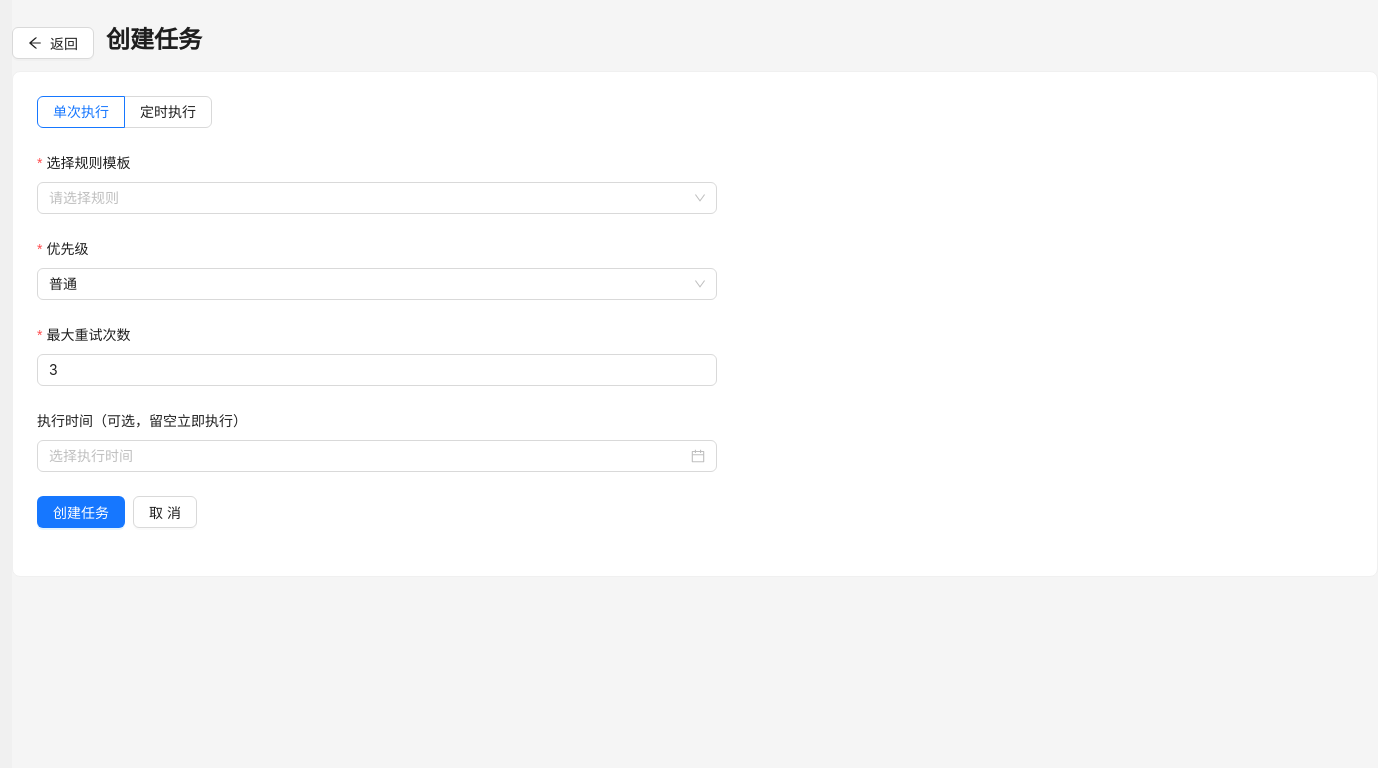
Test: TaskCreate › switches to scheduled mode
Expected: the button "单次执行" is shown, x1=53 y1=102 x2=109 y2=120
Click the button "定时执行". click: click(168, 111)
box: x1=140 y1=102 x2=196 y2=120
(page scrolled)
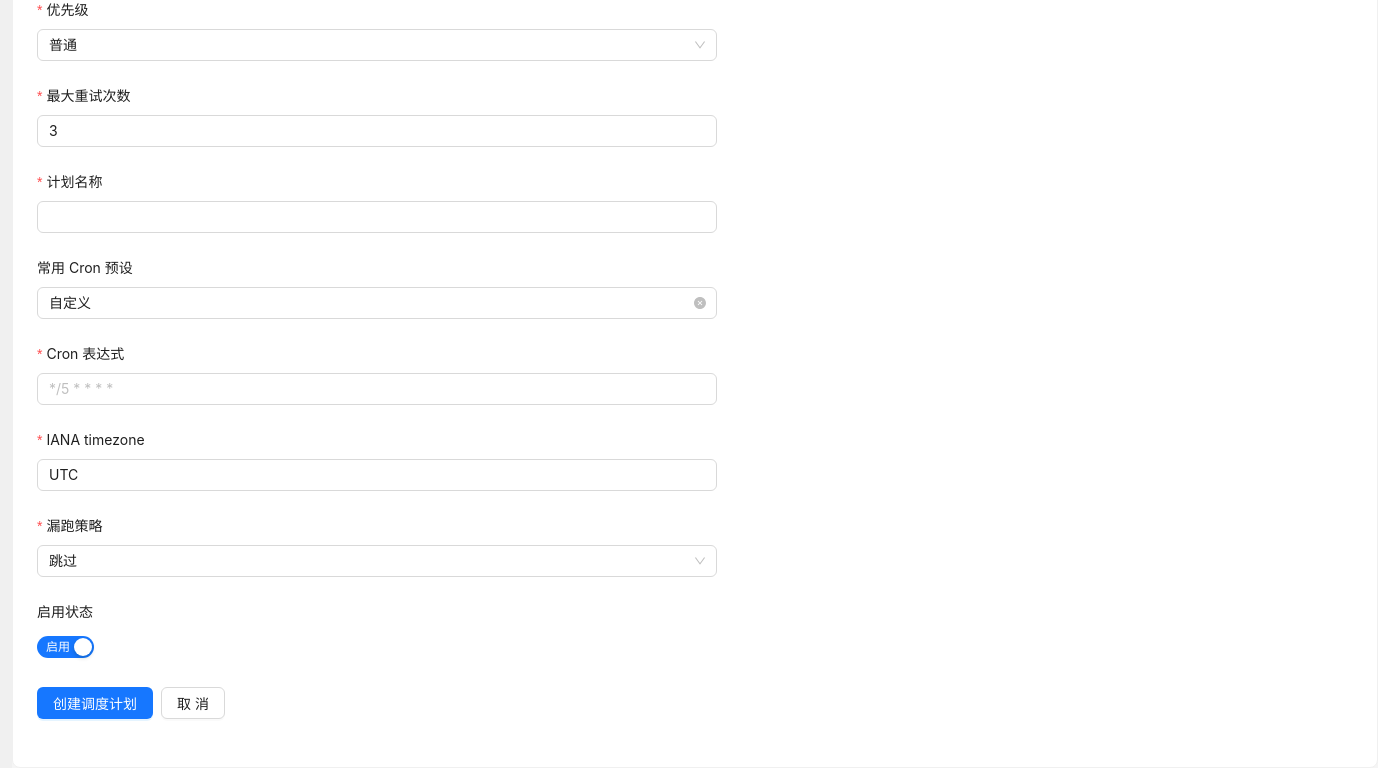
Expected: the field labelled "计划名称" is shown, x1=37 y1=200 x2=717 y2=232
Expected: the field labelled "Cron 表达式" is shown, x1=37 y1=372 x2=717 y2=404
Expected: the search field labelled "漏跑策略" is shown, x1=37 y1=514 x2=116 y2=536
